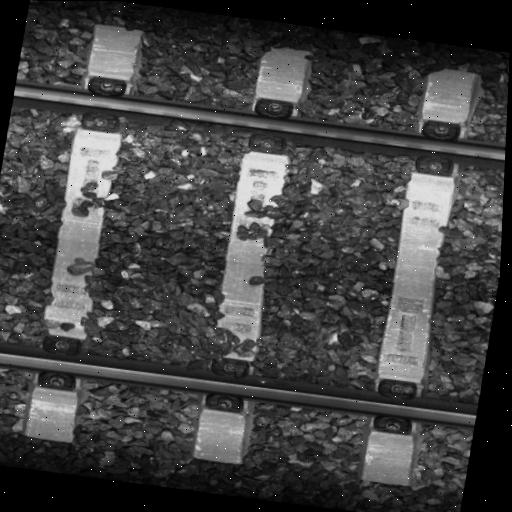clips: (247, 92, 299, 156), (34, 333, 80, 391), (81, 77, 129, 132), (204, 359, 250, 413), (416, 120, 460, 176), (372, 377, 413, 434)
sleepers: (188, 45, 325, 467), (21, 22, 155, 446), (357, 67, 488, 490)
